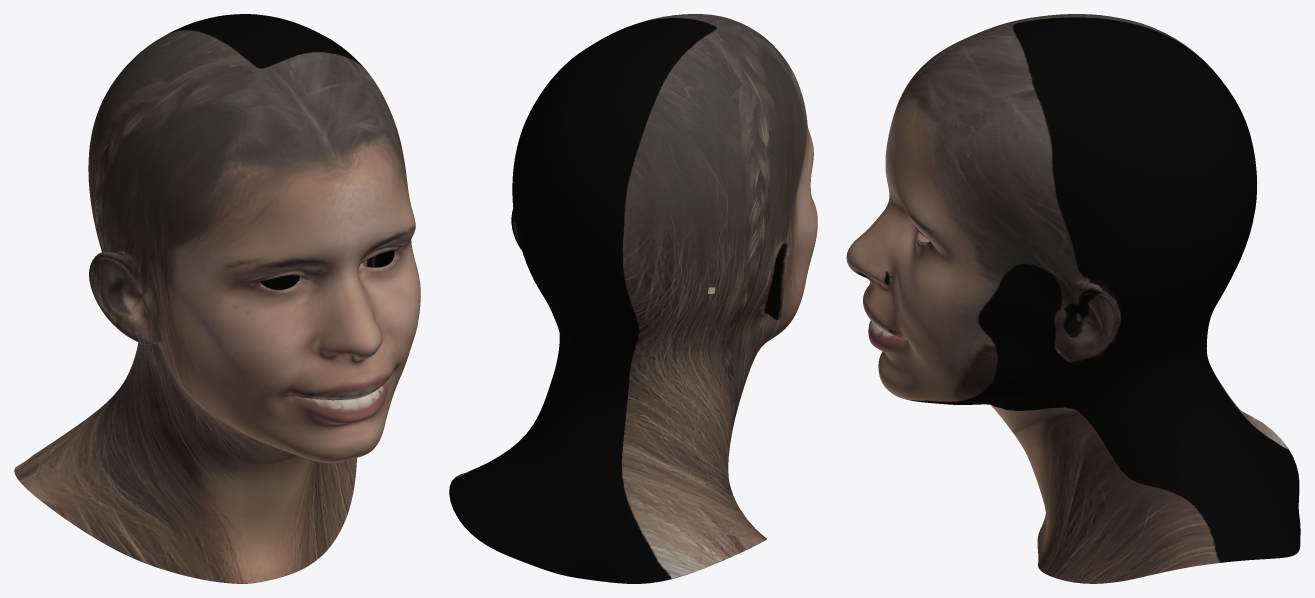
3 views of the same model, side by side, from view 1: azimuth 30°, elevation 25°; view 2: azimuth 150°, elevation 25°; view 3: azimuth 270°, elevation 25° (orthographic). The views are drawn at different scales.
Parts seen in each view (by area): view 1: FBHead.002; view 2: FBHead.002; view 3: FBHead.002.
Part boxes in pixels (x1=…): FBHead.002: x1=14, y1=14, x2=420, y2=583; FBHead.002: x1=449, y1=14, x2=817, y2=583; FBHead.002: x1=846, y1=14, x2=1300, y2=583.
Size of the model in its own units: 0.6322 by 1.01 by 0.7851.
1 material, 1 textured.
